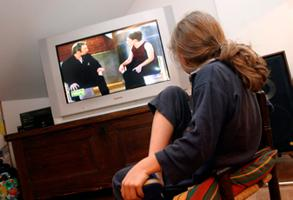person: (121, 12, 270, 199)
